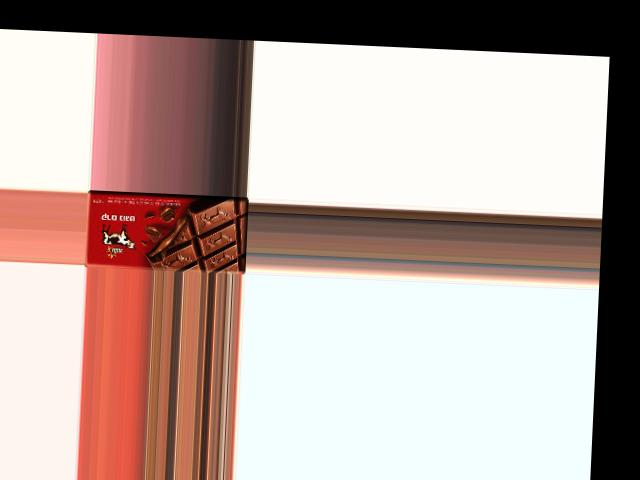chocolate: (83, 191, 246, 274)
